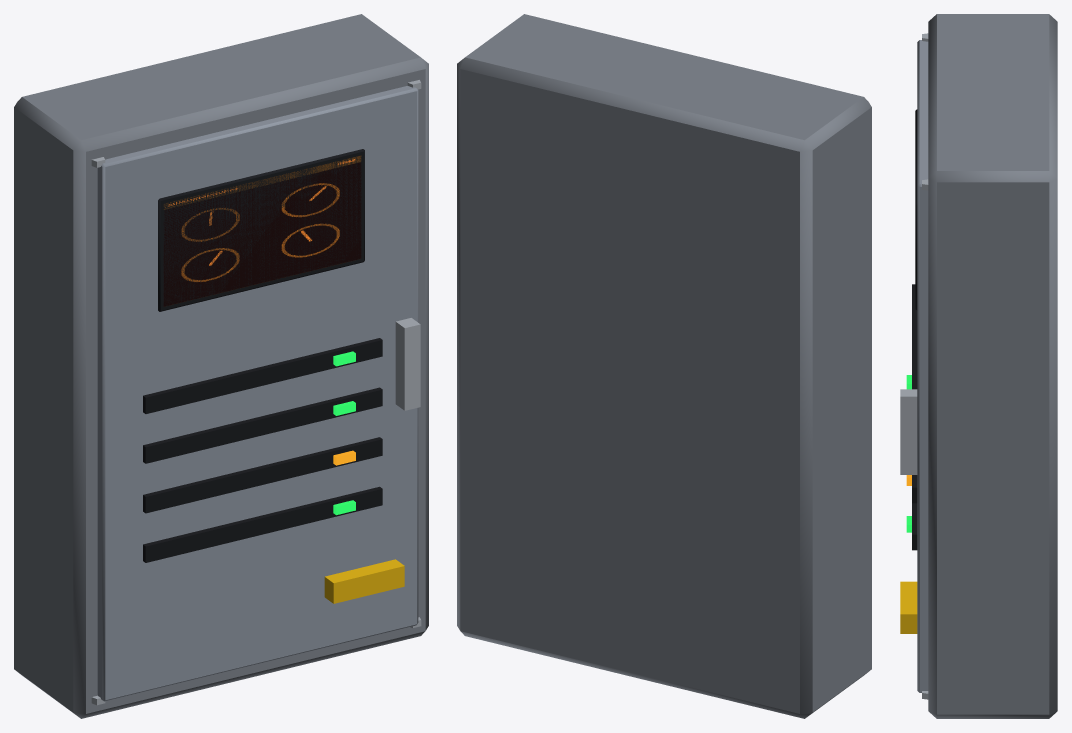
Rendered from capacitor_wall_battery_cabinet.glb.
The picture shows the model from 3 angles, left to right: view 1: azimuth 30°, elevation 25°; view 2: azimuth 150°, elevation 25°; view 3: azimuth 270°, elevation 25°; orthographic projection. The views are drawn at different scales.
Visible parts, largest first — view 1: capacitor_wall_battery_cabinet; view 2: capacitor_wall_battery_cabinet; view 3: capacitor_wall_battery_cabinet.
Part boxes in pixels (left/top/right/bottom): capacitor_wall_battery_cabinet: left=14, top=14, right=428, bottom=718; capacitor_wall_battery_cabinet: left=457, top=14, right=871, bottom=718; capacitor_wall_battery_cabinet: left=900, top=14, right=1057, bottom=718.
Bounding box in the file's own units: 0.9 × 1.4 × 0.365.
Materials: 8 (1 with a texture image).
